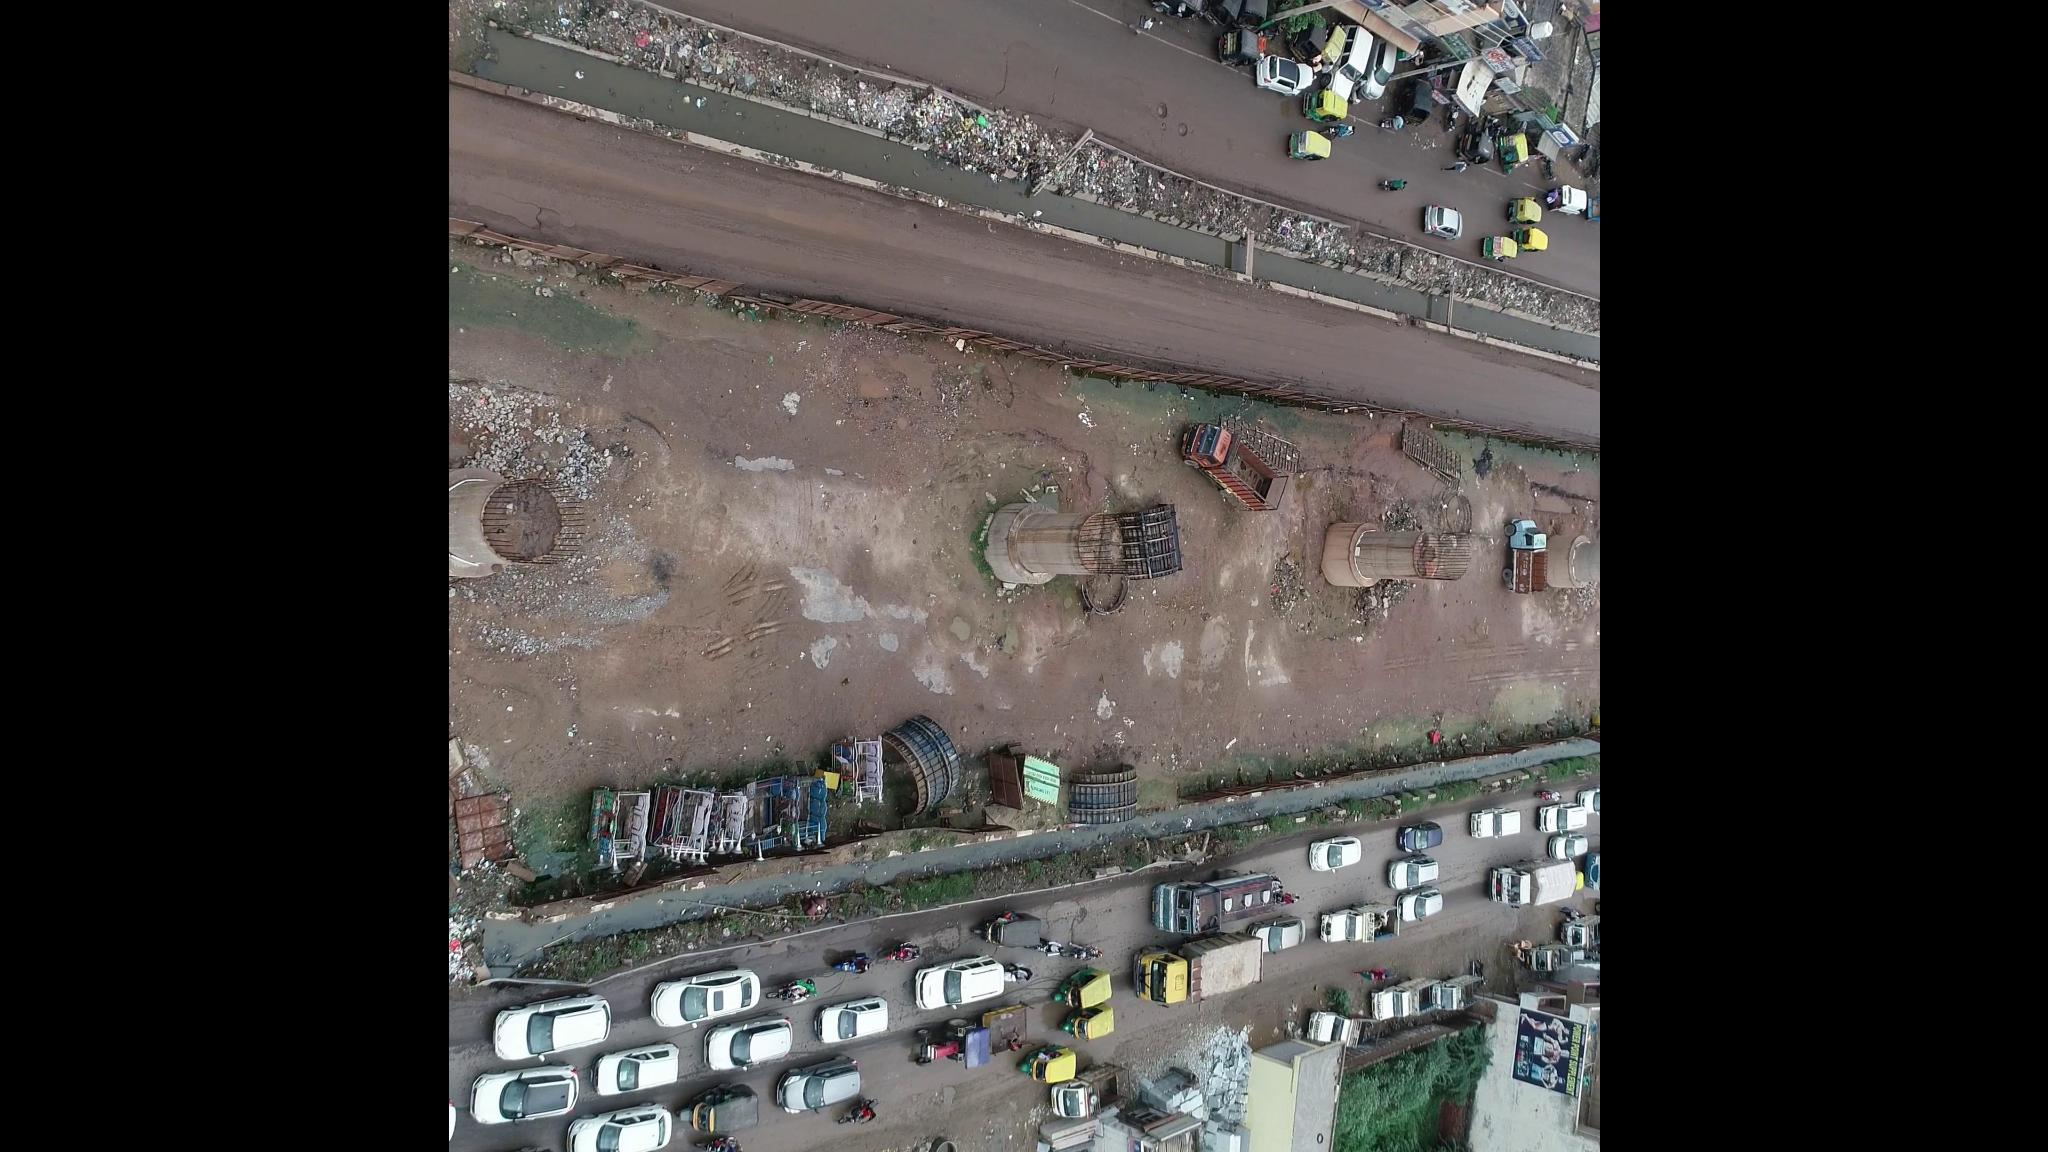Potholes: (1149, 55, 1218, 169)
